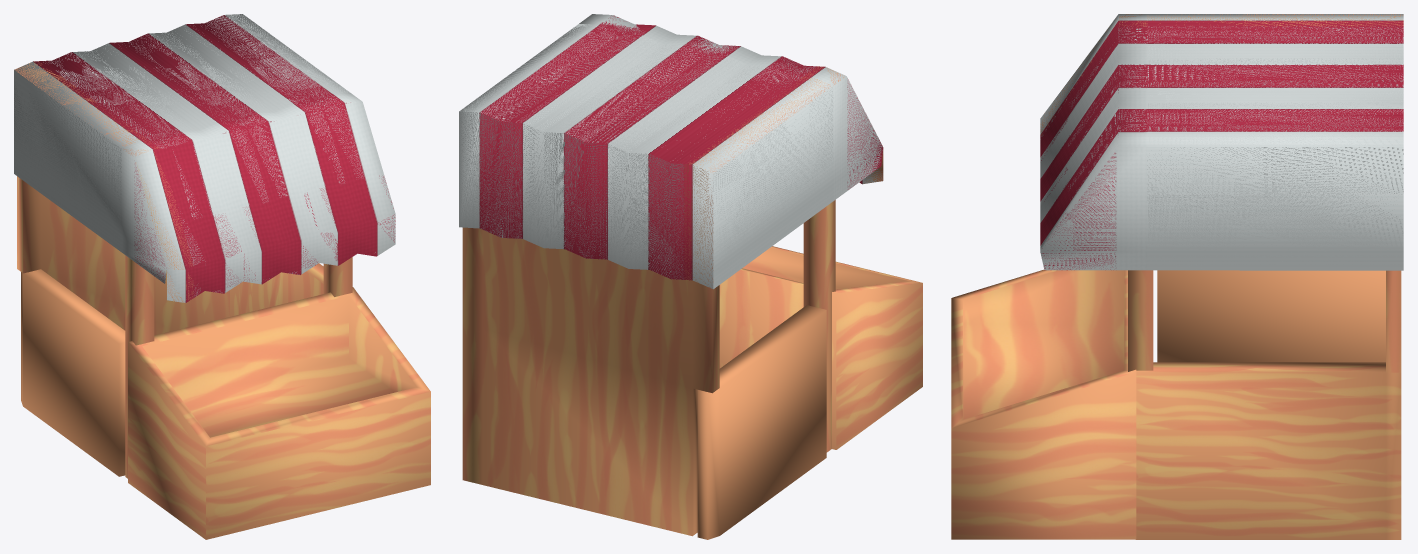
Rendered from MarketStand_UV.FBX.
3 views of the same model, side by side, from view 1: azimuth 30°, elevation 25°; view 2: azimuth 150°, elevation 25°; view 3: azimuth 270°, elevation 25° (orthographic). The views are drawn at different scales.
Visible parts, largest first — view 1: Stand, TarpNormal, MarketDoor; view 2: Stand, TarpNormal, MarketDoor; view 3: Stand, TarpNormal, MarketDoor.
Part boxes in pixels (x1=…): Stand: x1=14, y1=14, x2=430, y2=539; TarpNormal: x1=14, y1=14, x2=395, y2=302; MarketDoor: x1=21, y1=269, x2=125, y2=476; Stand: x1=459, y1=14, x2=922, y2=536; TarpNormal: x1=459, y1=14, x2=883, y2=287; MarketDoor: x1=697, y1=305, x2=826, y2=539; Stand: x1=951, y1=14, x2=1403, y2=539; TarpNormal: x1=1040, y1=14, x2=1403, y2=270; MarketDoor: x1=1157, y1=270, x2=1385, y2=362.
Bounding box in the file's own units: 96.9 × 136 × 139.
